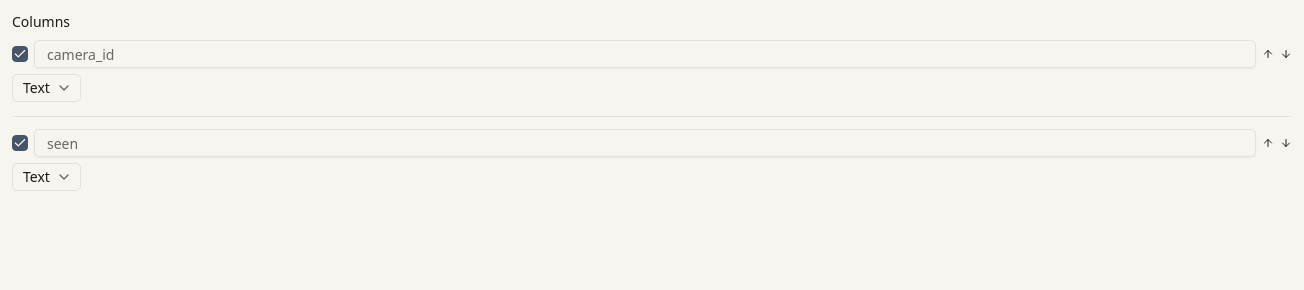
Test case: choosing how a column is drawn › reveals the link templates only for a link column
Click the dropdown named "Display camera_id as". click: [46, 88]
box: [12,74,81,102]
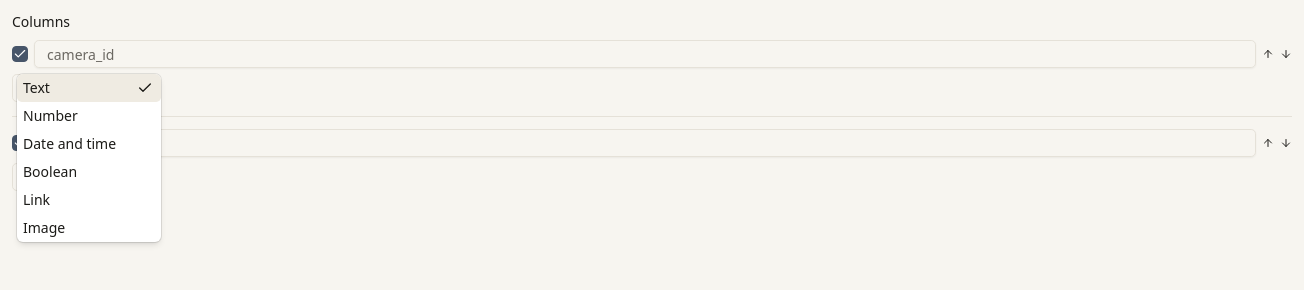
Click the option "Link". click: [37, 200]
box: [23,190,50,209]
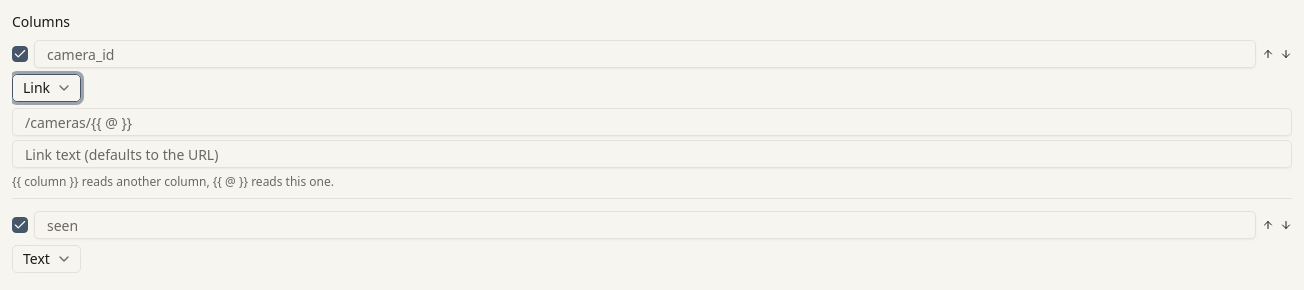
Check: the field named "camera_id URL template" is shown, box [12,108,1292,136]
